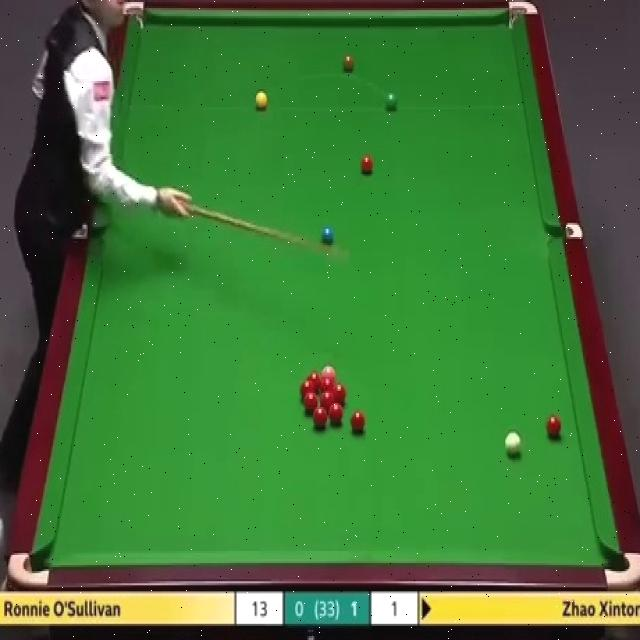blue-ball: (320, 226, 334, 249)
brown-ball: (341, 54, 355, 72)
green-ball: (384, 91, 398, 110)
pink-ball: (319, 361, 334, 374)
red-ball: (545, 414, 561, 441), (349, 411, 366, 435), (358, 154, 375, 177), (302, 391, 318, 414), (328, 402, 344, 424), (314, 402, 328, 424), (334, 384, 348, 404), (308, 374, 321, 390), (299, 381, 313, 395), (322, 375, 334, 390), (320, 392, 334, 403)
white-ball: (504, 430, 522, 456)
yellow-ball: (255, 90, 268, 111)
